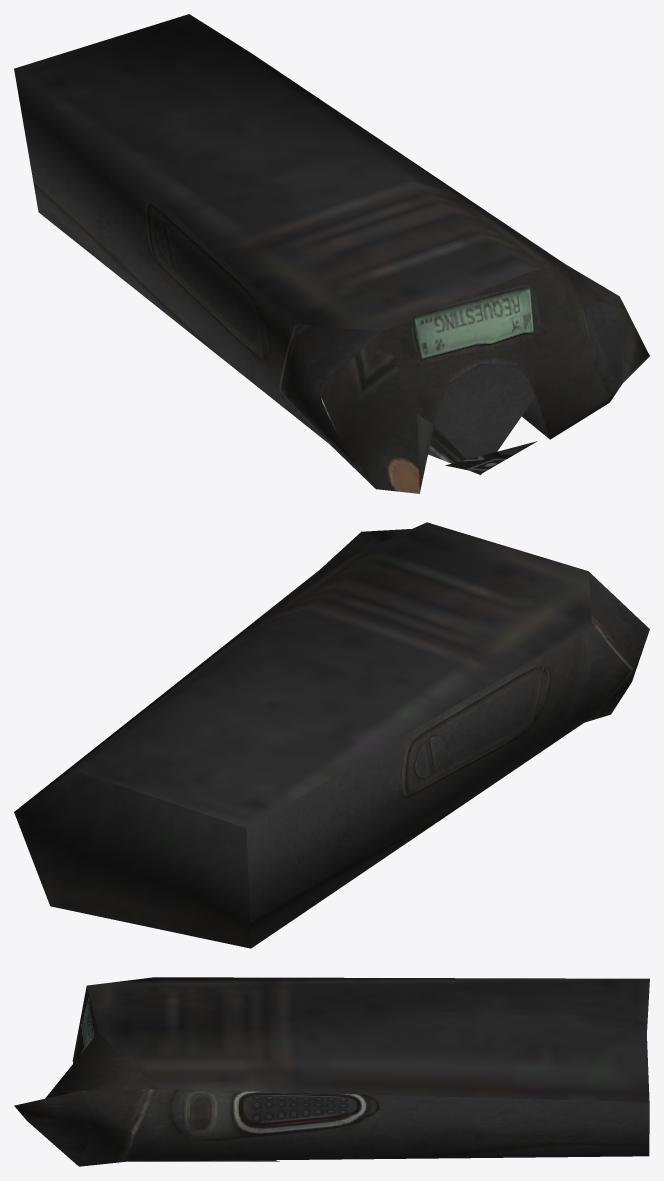
The model's file is t6_wpn_uav_radio_world_LOD2.obj.
The picture shows the model from 3 angles, top to bottom: view 1: azimuth 30°, elevation 25°; view 2: azimuth 150°, elevation 25°; view 3: azimuth 270°, elevation 25°; orthographic projection. The views are drawn at different scales.
Visible parts, largest first — view 1: mtl_t6_wpn_uav_radio; view 2: mtl_t6_wpn_uav_radio; view 3: mtl_t6_wpn_uav_radio.
Part boxes in pixels (<box>): mtl_t6_wpn_uav_radio: <box>14,14,649,493</box>; mtl_t6_wpn_uav_radio: <box>14,522,649,948</box>; mtl_t6_wpn_uav_radio: <box>14,977,649,1166</box>.
Size of the model in its own units: 9.38 by 5.02 by 19.54.
